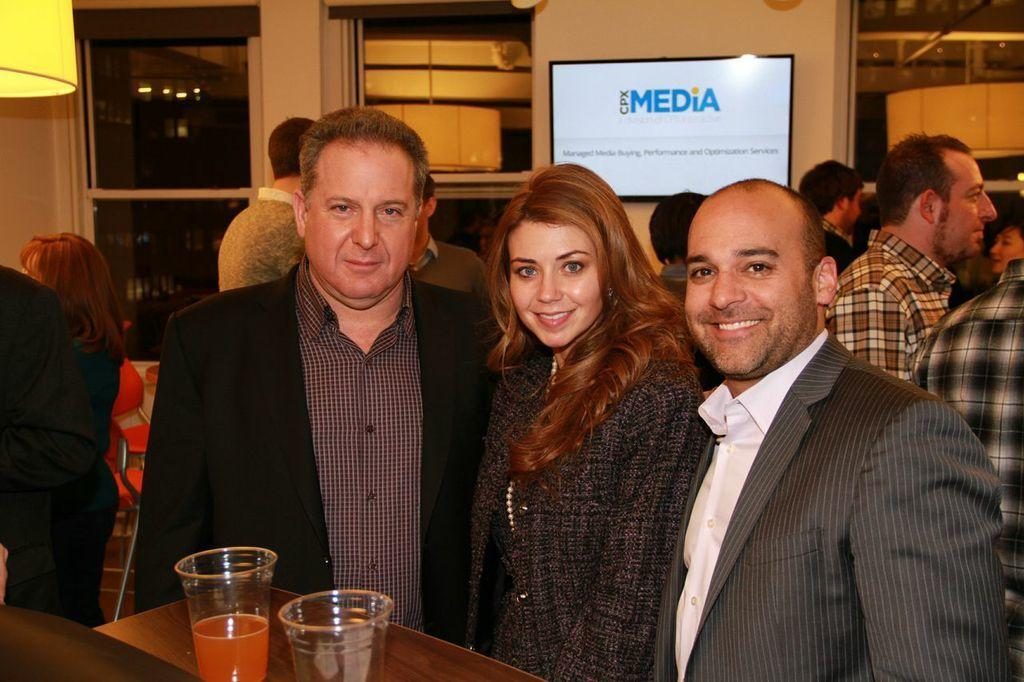Sem Máscara: (683, 194, 812, 371), (301, 137, 414, 299), (507, 218, 599, 346), (933, 150, 994, 259)
